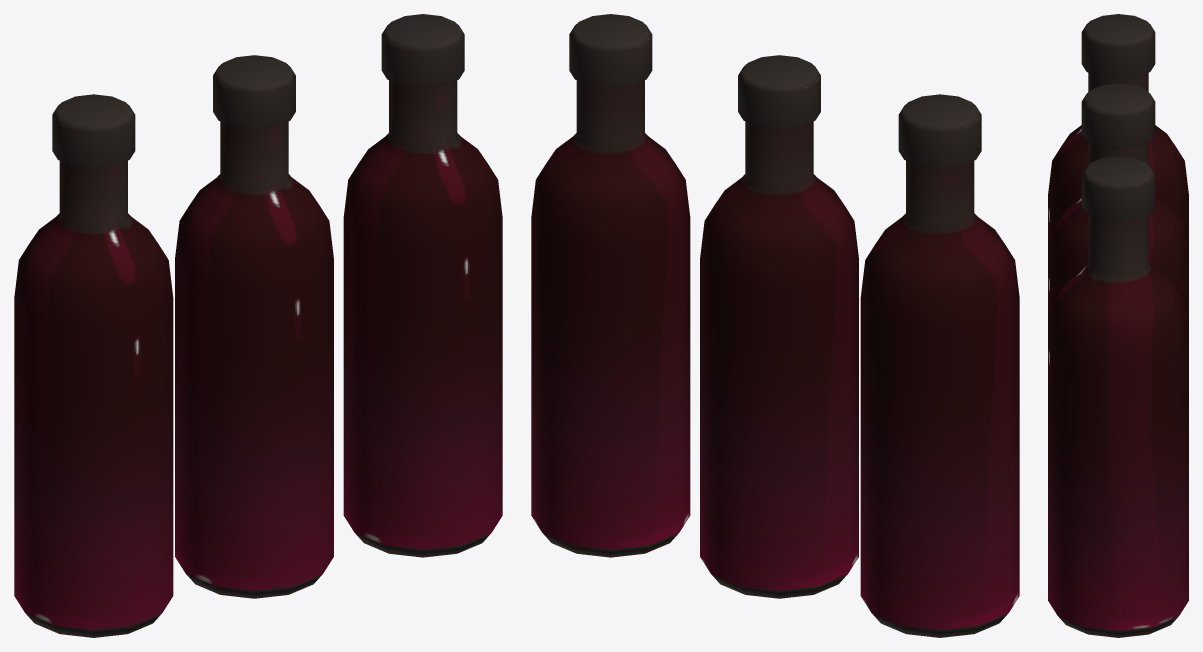
Rendered from wine.fbx.
3 renders of one model, left to right at view 1: azimuth 30°, elevation 25°; view 2: azimuth 150°, elevation 25°; view 3: azimuth 270°, elevation 25°, orthographic. The views are drawn at different scales.
Parts seen in each view (by area): view 1: wine; view 2: wine; view 3: wine.
Part boxes in pixels (<box>): wine: <box>14,14,502,637</box>; wine: <box>531,14,1019,637</box>; wine: <box>1048,14,1188,637</box>.
Bounding box in the file's own units: 34.17 × 34.9 × 10.07.
1 material, 1 textured.
